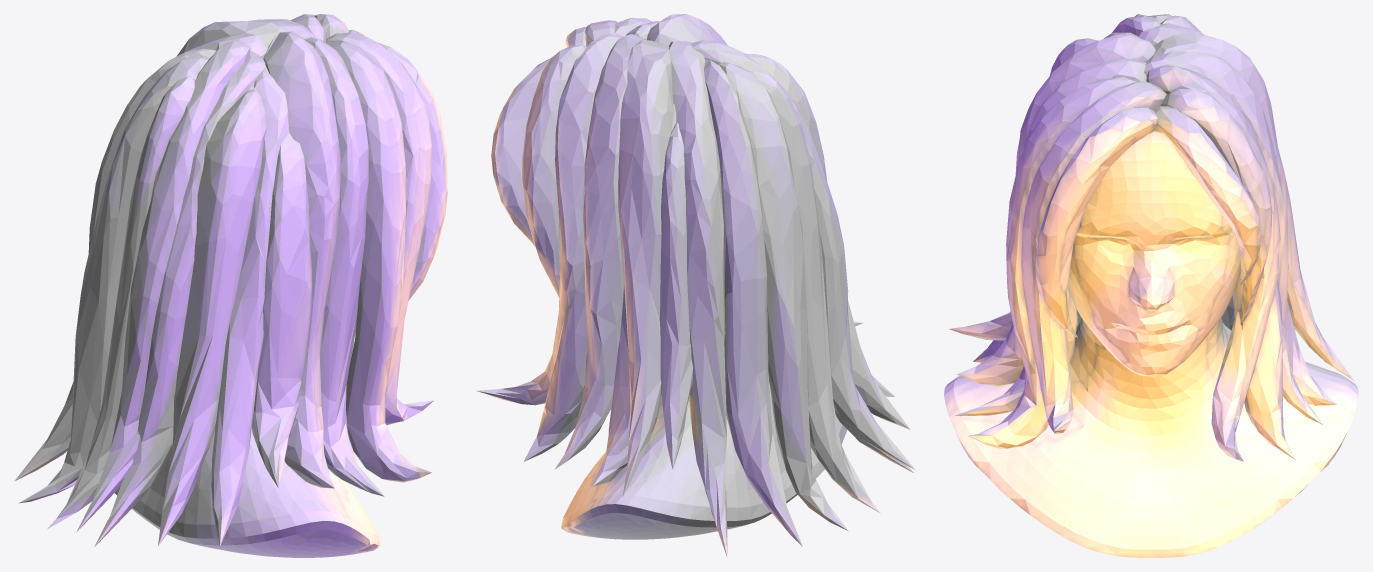
File: Filter_0.glb
3 renders of one model, left to right at view 1: azimuth 30°, elevation 25°; view 2: azimuth 150°, elevation 25°; view 3: azimuth 270°, elevation 25°, orthographic. The views are drawn at different scales.
Parts seen in each view (by area): view 1: buste_1; view 2: buste_1; view 3: buste_1.
Part boxes in pixels (<box>): buste_1: <box>14,14,447,557</box>; buste_1: <box>476,14,915,557</box>; buste_1: <box>944,14,1358,557</box>.
Bounding box in the file's own units: 71.68 × 94.14 × 71.61.
